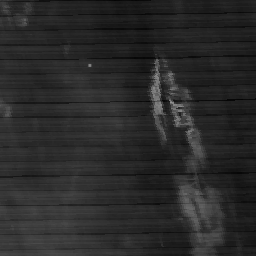Target: (86, 62, 93, 69)
